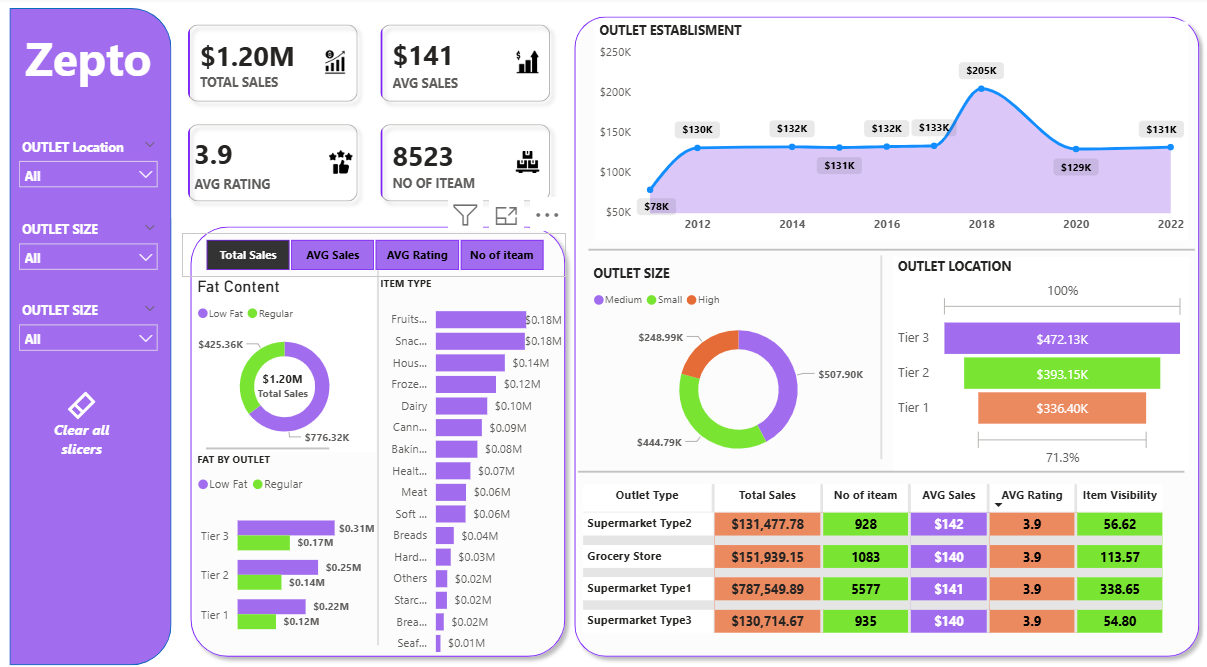

The page's visual inventory and layout, read from the dashboard file:
{"tool":"powerbi","page":{"name":"Page 1","canvas":[1280,720],"ordinal":0},"visuals":[{"type":"shape","box":[11.3,13,170,689.8],"z":0},{"type":"textbox","box":[11.3,27.5,165.2,77.7],"z":1000},{"type":"cardVisual","fields":{"Data":["BlinkIT Grocery Data.Total Sales","BlinkIT Grocery Data.AVG Sales","BlinkIT Grocery Data.AVG Rating","BlinkIT Grocery Data.No of iteam"]},"box":[181.4,13,414.5,220.2],"z":2000},{"type":"shape","box":[192.7,233.2,411.3,469.6],"z":3000},{"type":"donutChart","title":"Fat Content","fields":{"Y":["Zepto Grocery Data.Total Sales"],"Category":["Zepto Grocery Data.Item Fat Content"]},"box":[202.4,294.7,192.7,184.6],"z":4000},{"type":"slicer","fields":{"Values":["Metrics.Metrics"]},"box":[192.7,249.4,403.2,45.3],"z":5000},{"type":"cardVisual","fields":{"Data":["Zepto Grocery Data.Total Sales"]},"box":[251,374,95.5,69.6],"z":6000},{"type":"clusteredBarChart","title":"FAT BY OUTLET","fields":{"Y":["Zepto Grocery Data.Total Sales"],"Category":["Zepto Grocery Data.Outlet Location Type"],"Series":["Zepto Grocery Data.Item Fat Content"]},"box":[202.4,479.3,195.9,208.9],"z":7000},{"type":"shape","box":[217,468,129.5,14.6],"z":8000},{"type":"shape","box":[388.6,288.2,17.8,393.5],"z":9000},{"type":"barChart","title":"ITEM TYPE","fields":{"Y":["Zepto Grocery Data.Total Sales"],"Category":["Zepto Grocery Data.Item Type"]},"box":[395.1,294.7,200.8,408],"z":10000},{"type":"shape","box":[595.9,13,673.6,689.8],"z":11000},{"type":"lineChart","title":"OUTLET ESTABLISMENT","fields":{"Category":["Zepto Grocery Data.Outlet Establishment Year"],"Y":["Zepto Grocery Data.Total Sales"]},"box":[625,27.5,623.4,229.9],"z":12000},{"type":"shape","box":[618.5,257.5,636.4,16.2],"z":13000},{"type":"donutChart","title":"OUTLET SIZE","fields":{"Y":["Zepto Grocery Data.Total Sales"],"Category":["Zepto Grocery Data.Outlet Size"]},"box":[618.5,281.7,314.1,217],"z":14000},{"type":"shape","box":[914.9,272,22.7,213.7],"z":15000},{"type":"funnel","title":"OUTLET LOCATION","fields":{"Y":["Zepto Grocery Data.Total Sales"],"Category":["Zepto Grocery Data.Outlet Location Type"]},"box":[937.5,273.6,310.9,225.1],"z":16000},{"type":"shape","box":[607.2,490.6,636.4,16.2],"z":17000},{"type":"pivotTable","fields":{"Rows":["Zepto Grocery Data.Outlet Type"],"Values":["Zepto Grocery Data.Total Sales","Zepto Grocery Data.No of iteam","Zepto Grocery Data.AVG Sales","Zepto Grocery Data.AVG Rating","Sum(Zepto Grocery Data.Item Visibility)"]},"box":[607.2,506.8,641.2,183],"z":18000},{"type":"slicer","fields":{"Values":["Zepto Grocery Data.Outlet Location Type"]},"box":[11.3,142.5,165.2,68],"z":19000},{"type":"slicer","fields":{"Values":["Zepto Grocery Data.Outlet Size"]},"box":[11.3,229.9,165.2,64.8],"z":20000},{"type":"slicer","fields":{"Values":["Zepto Grocery Data.Item Type"]},"box":[11.3,314.1,165.2,64.8],"z":21000},{"type":"actionButton","box":[53.4,409.7,66.4,81],"z":22000}]}

Visuals, with their boxes in screenshot pixels (x1, y1, x2, y2), scaled from the page's 1280x720 canvas onto the 1207x667 screenshot:
shape: {"x1": 11, "y1": 12, "x2": 171, "y2": 651}
textbox: {"x1": 11, "y1": 25, "x2": 166, "y2": 97}
cardVisual - BlinkIT Grocery Data.Total Sales x BlinkIT Grocery Data.AVG Sales: {"x1": 171, "y1": 12, "x2": 562, "y2": 216}
shape: {"x1": 182, "y1": 216, "x2": 570, "y2": 651}
"Fat Content" donutChart: {"x1": 191, "y1": 273, "x2": 373, "y2": 444}
slicer - Metrics.Metrics: {"x1": 182, "y1": 231, "x2": 562, "y2": 273}
cardVisual - Zepto Grocery Data.Total Sales: {"x1": 237, "y1": 346, "x2": 327, "y2": 411}
"FAT BY OUTLET" clusteredBarChart: {"x1": 191, "y1": 444, "x2": 376, "y2": 638}
shape: {"x1": 205, "y1": 434, "x2": 327, "y2": 447}
shape: {"x1": 366, "y1": 267, "x2": 383, "y2": 632}
"ITEM TYPE" barChart: {"x1": 373, "y1": 273, "x2": 562, "y2": 651}
shape: {"x1": 562, "y1": 12, "x2": 1197, "y2": 651}
"OUTLET ESTABLISMENT" lineChart: {"x1": 589, "y1": 25, "x2": 1177, "y2": 238}
shape: {"x1": 583, "y1": 239, "x2": 1183, "y2": 254}
"OUTLET SIZE" donutChart: {"x1": 583, "y1": 261, "x2": 879, "y2": 462}
shape: {"x1": 863, "y1": 252, "x2": 884, "y2": 450}
"OUTLET LOCATION" funnel: {"x1": 884, "y1": 253, "x2": 1177, "y2": 462}
shape: {"x1": 573, "y1": 454, "x2": 1173, "y2": 469}
pivotTable - Zepto Grocery Data.Outlet Type x Zepto Grocery Data.Total Sales: {"x1": 573, "y1": 469, "x2": 1177, "y2": 639}
slicer - Zepto Grocery Data.Outlet Location Type: {"x1": 11, "y1": 132, "x2": 166, "y2": 195}
slicer - Zepto Grocery Data.Outlet Size: {"x1": 11, "y1": 213, "x2": 166, "y2": 273}
slicer - Zepto Grocery Data.Item Type: {"x1": 11, "y1": 291, "x2": 166, "y2": 351}
actionButton: {"x1": 50, "y1": 380, "x2": 113, "y2": 455}
